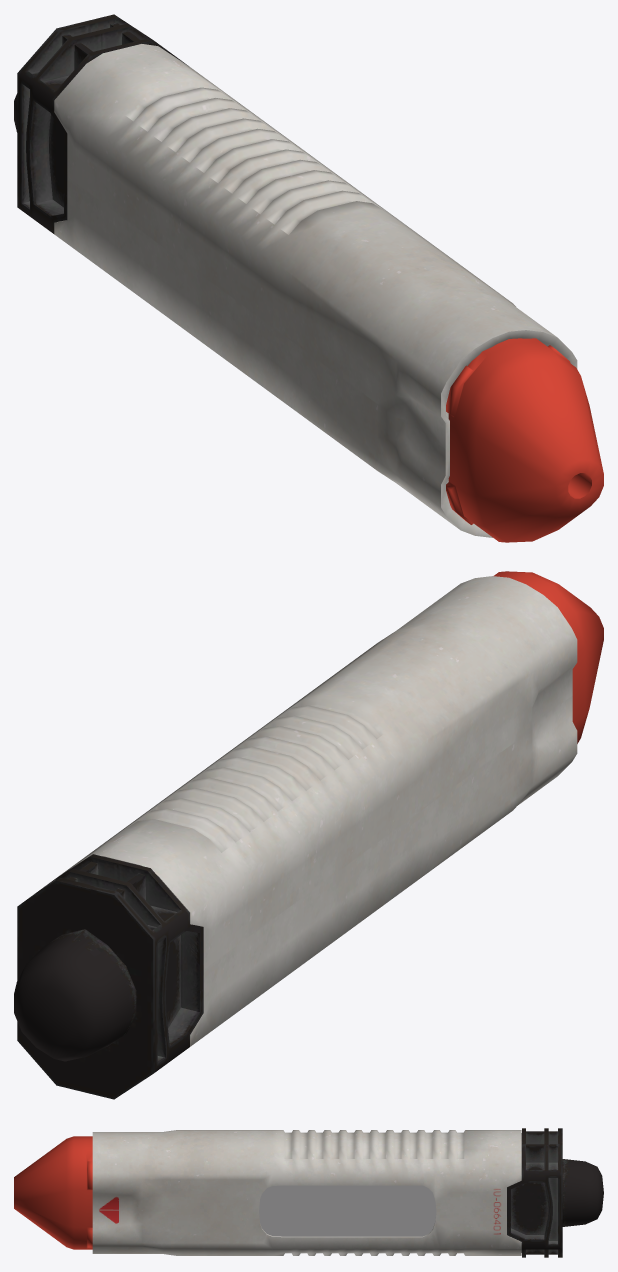
File: AdrenalinePrefab.fbx
The picture shows the model from 3 angles, top to bottom: view 1: azimuth 30°, elevation 25°; view 2: azimuth 150°, elevation 25°; view 3: azimuth 270°, elevation 25°; orthographic projection. The views are drawn at different scales.
Parts seen in each view (by area): view 1: adrenaline_LOD0, cap_LOD0; view 2: adrenaline_LOD0, cap_LOD0; view 3: adrenaline_LOD0, glass_LOD0, cap_LOD0.
Part boxes in pixels (box(x1,y1,x2,y2)): adrenaline_LOD0: box(54, 44, 603, 542); cap_LOD0: box(14, 14, 187, 233); adrenaline_LOD0: box(57, 571, 603, 1046); cap_LOD0: box(14, 854, 203, 1099); adrenaline_LOD0: box(14, 1130, 521, 1255); glass_LOD0: box(259, 1185, 436, 1236); cap_LOD0: box(507, 1128, 603, 1257).
Size of what is drawn, in the model's own units: 0.0423 by 0.0608 by 0.2865.
2 materials, 2 textured.
